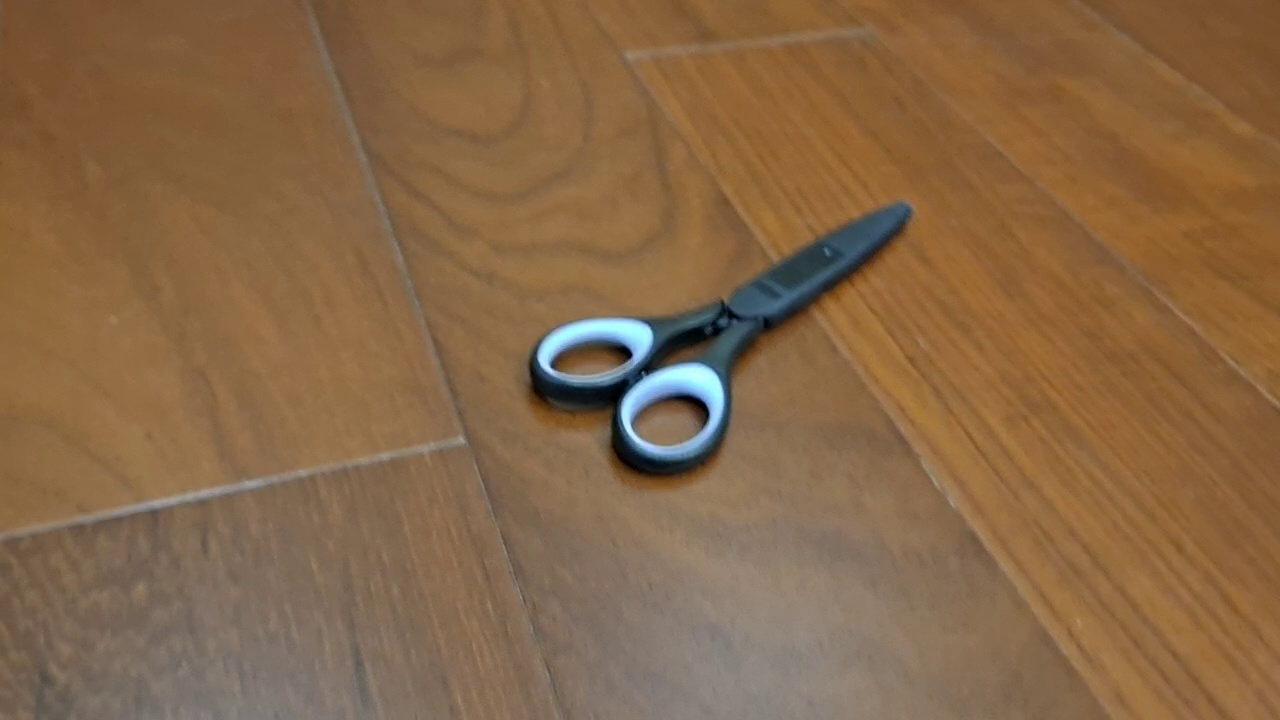scissors: (526, 198, 916, 478)
